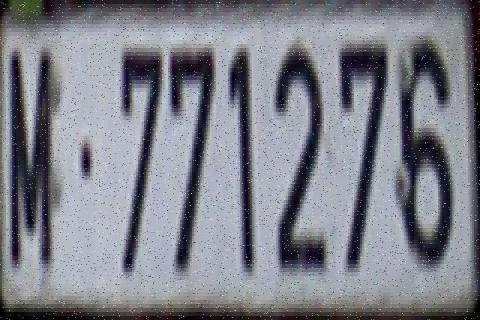LicensePlate: (1, 9, 471, 310)
